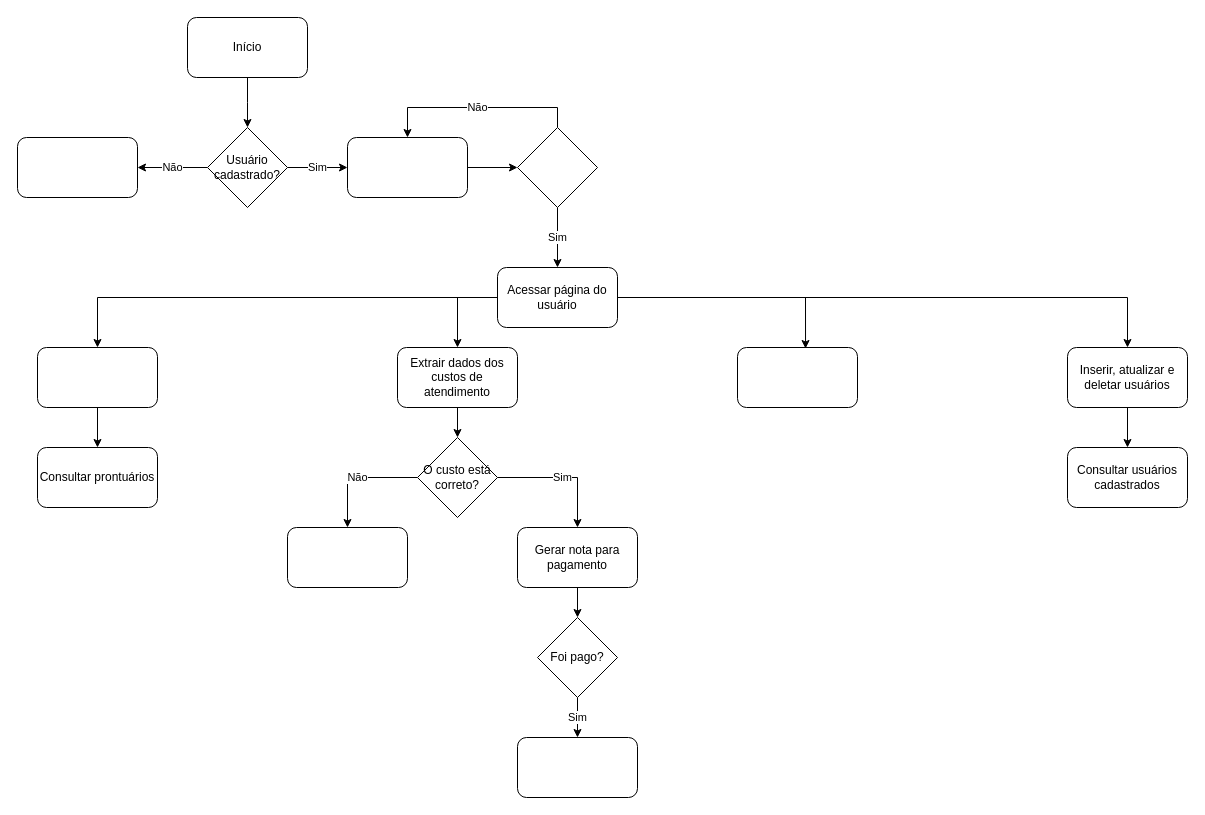
This 1205x815 diagram has some shape labels left out. Each missing label, with the centre of its shape:
"Criar prontuários" belongs at point (97, 377).
"Efetuar Login" belongs at point (407, 167).
"Gerar alta" belongs at point (577, 767).
"Login válido?" belongs at point (557, 167).
"Solicitar acesso ao responsável" belongs at point (77, 167).
